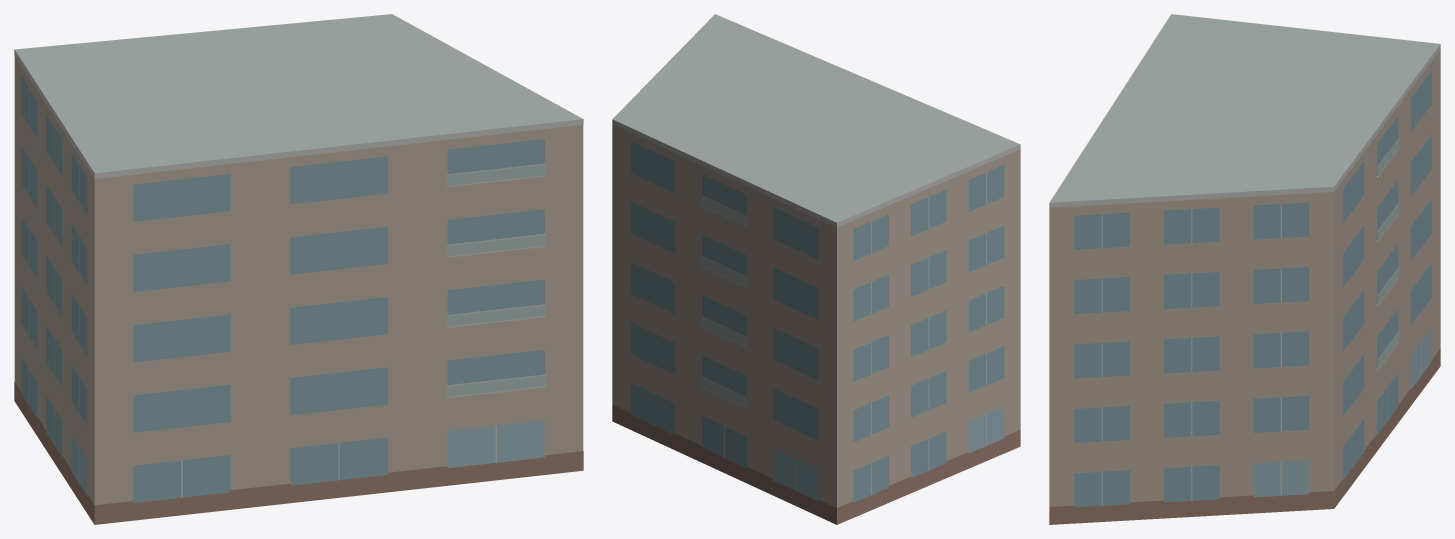
File: survey-upis-32667875.glb
3 views of the same model, side by side, from view 1: azimuth 30°, elevation 25°; view 2: azimuth 150°, elevation 25°; view 3: azimuth 270°, elevation 25° (orthographic). The views are drawn at different scales.
Parts seen in each view (by area): view 1: survey-upis-32667875.tmp; view 2: survey-upis-32667875.tmp; view 3: survey-upis-32667875.tmp.
Part boxes in pixels (bbox=[...]): survey-upis-32667875.tmp: bbox=[14, 14, 583, 524]; survey-upis-32667875.tmp: bbox=[612, 14, 1020, 524]; survey-upis-32667875.tmp: bbox=[1049, 14, 1440, 524].
Size of the model in its own units: 19.18 by 15.25 by 16.8.
